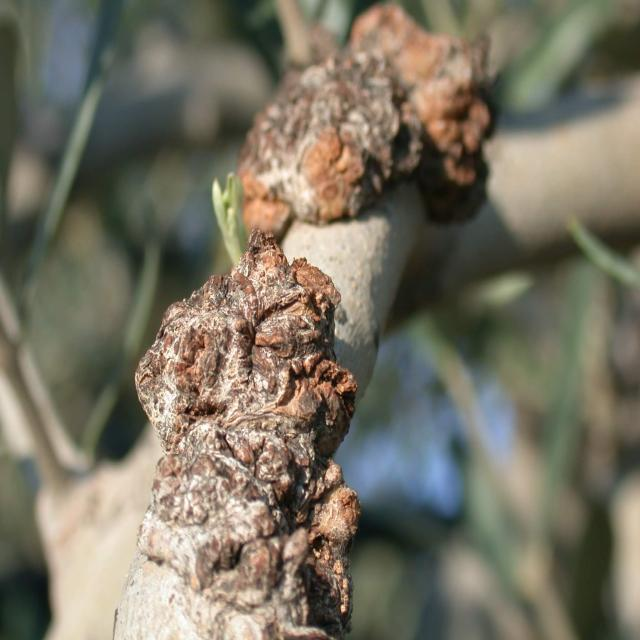Tuberculosis: (136, 230, 360, 640), (238, 4, 494, 240)
